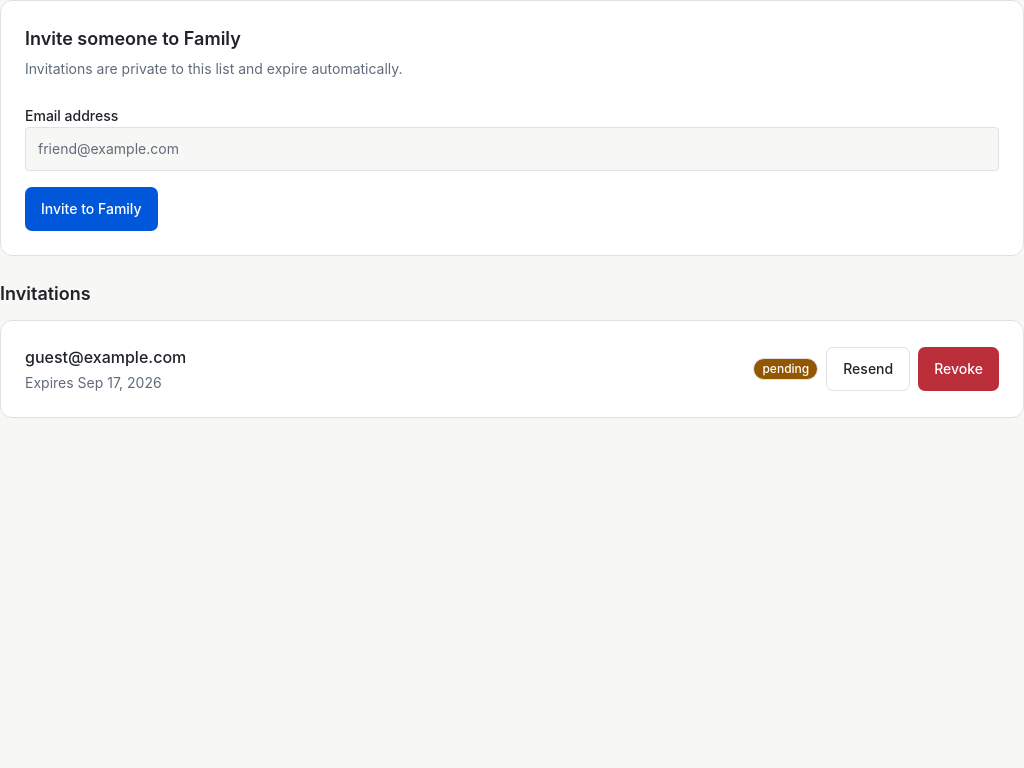
Test: InvitationManagement › resends and revokes pending invitations with explicit actions
Click the button "Resend": x=868, y=369 [826,347,910,391]
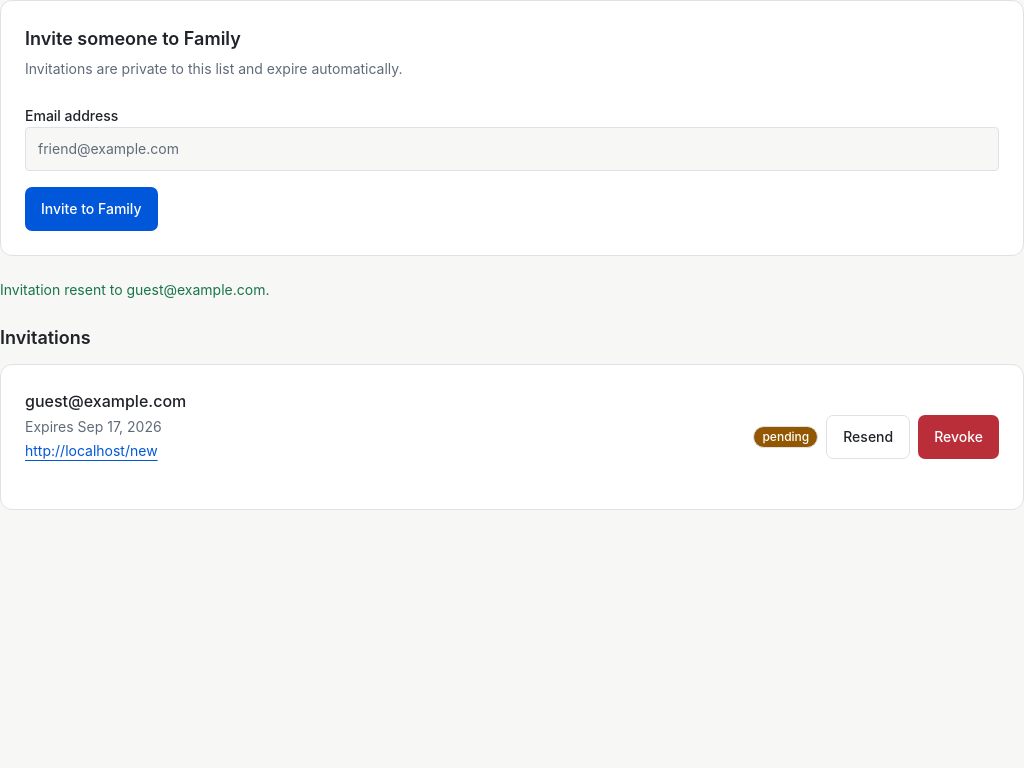
Check: the link "http://localhost/new" is shown, box [25,442,158,459]
Click the button "Revoke": x=959, y=437 [918,415,999,459]
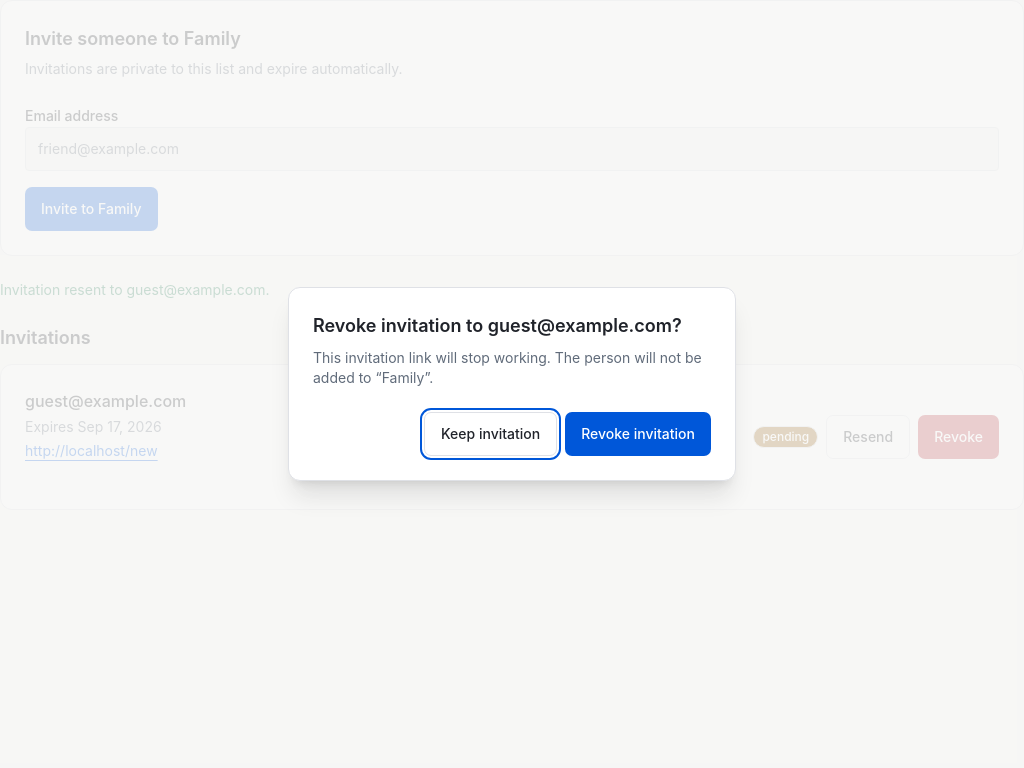
Check: the text "link will stop working" is shown, box [313,349,702,386]
Click the button "Revoke invitation": x=638, y=434 [565,412,711,456]
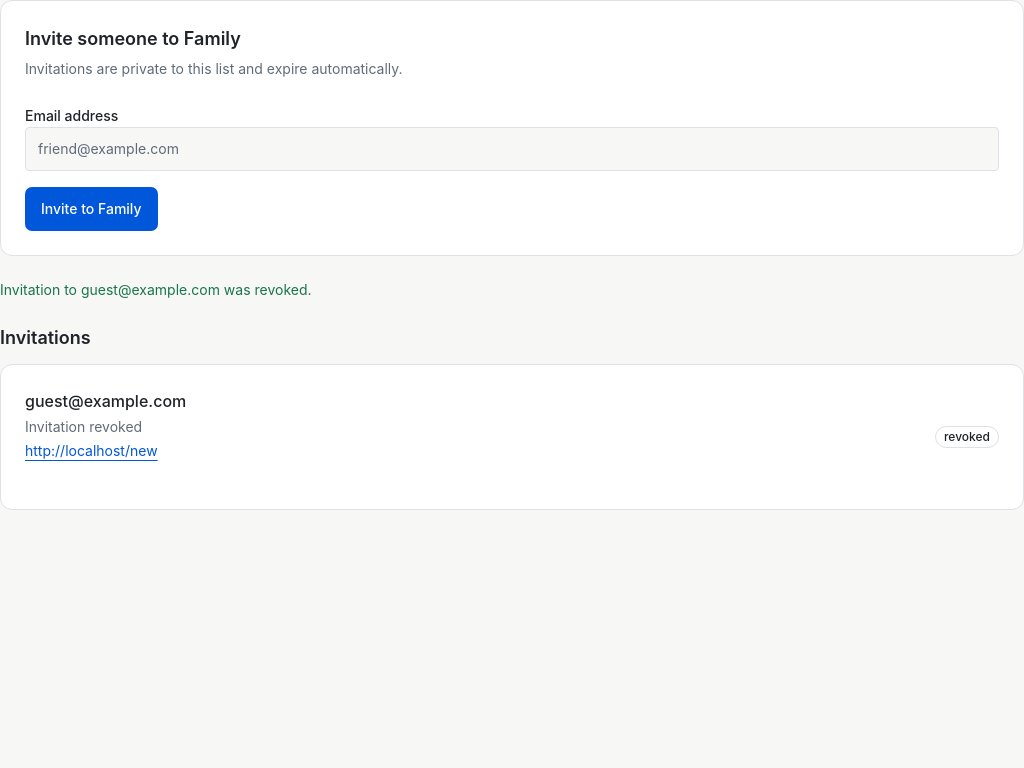
Check: the text "Invitation revoked" is shown, box [25,418,142,435]
